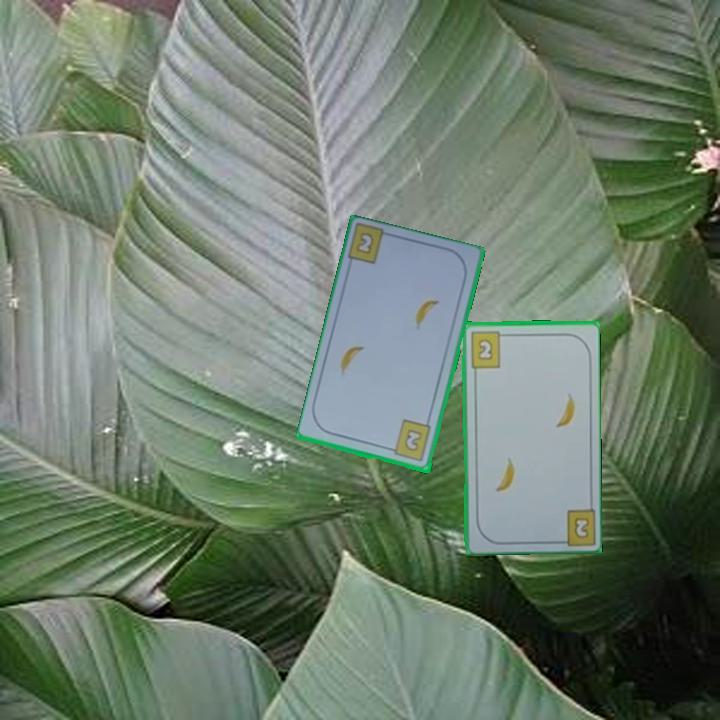2b: (385, 417, 434, 465), (467, 328, 509, 370), (571, 513, 592, 541), (355, 231, 375, 255)
